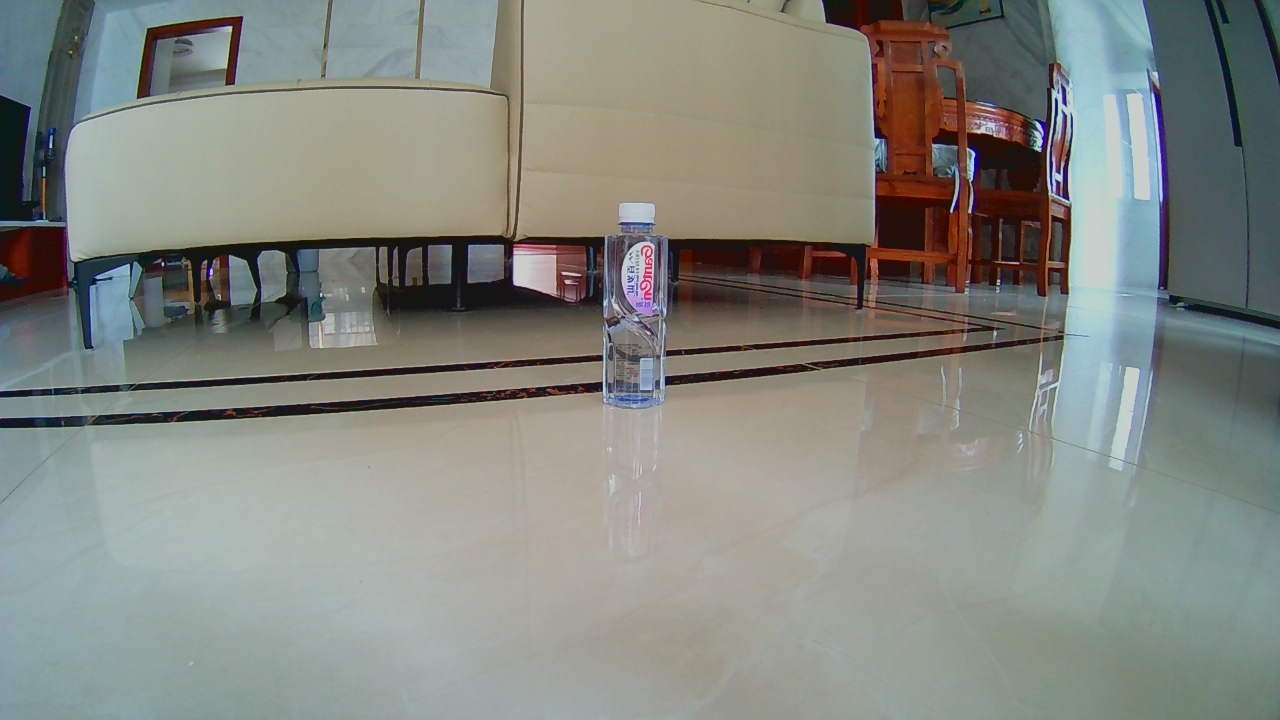water: (602, 198, 671, 407)
